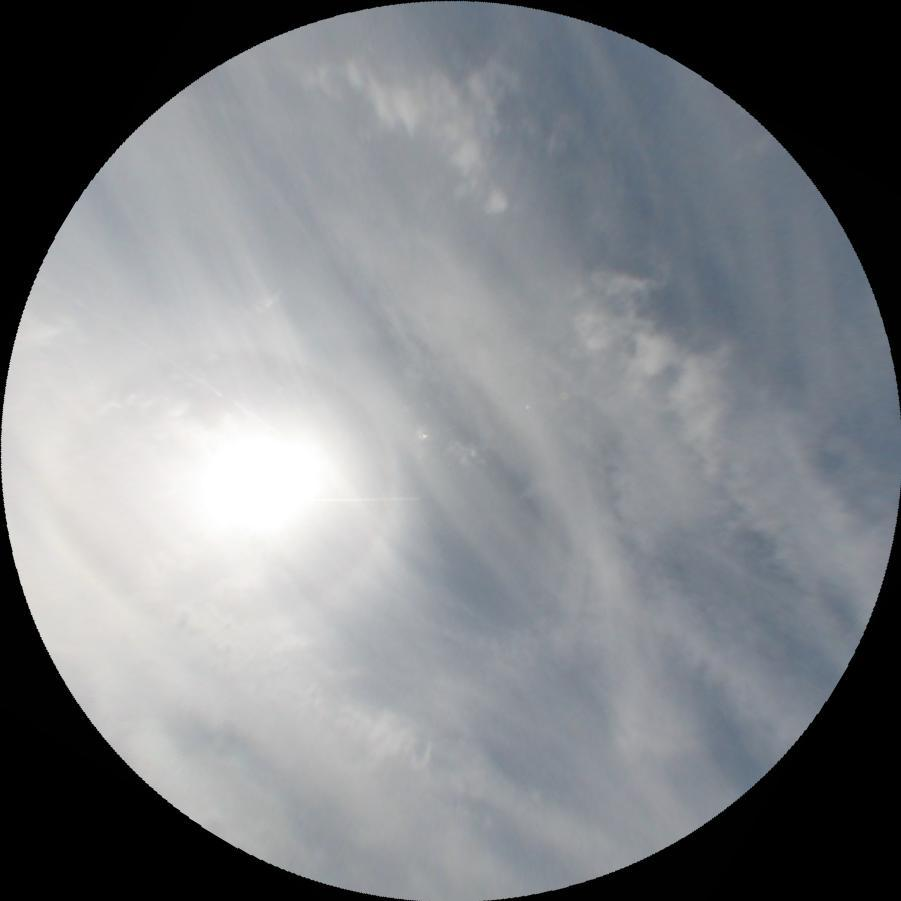contrail young: (309, 496, 422, 501)
parasite: (36, 272, 282, 433)
sun: (193, 425, 324, 536)
